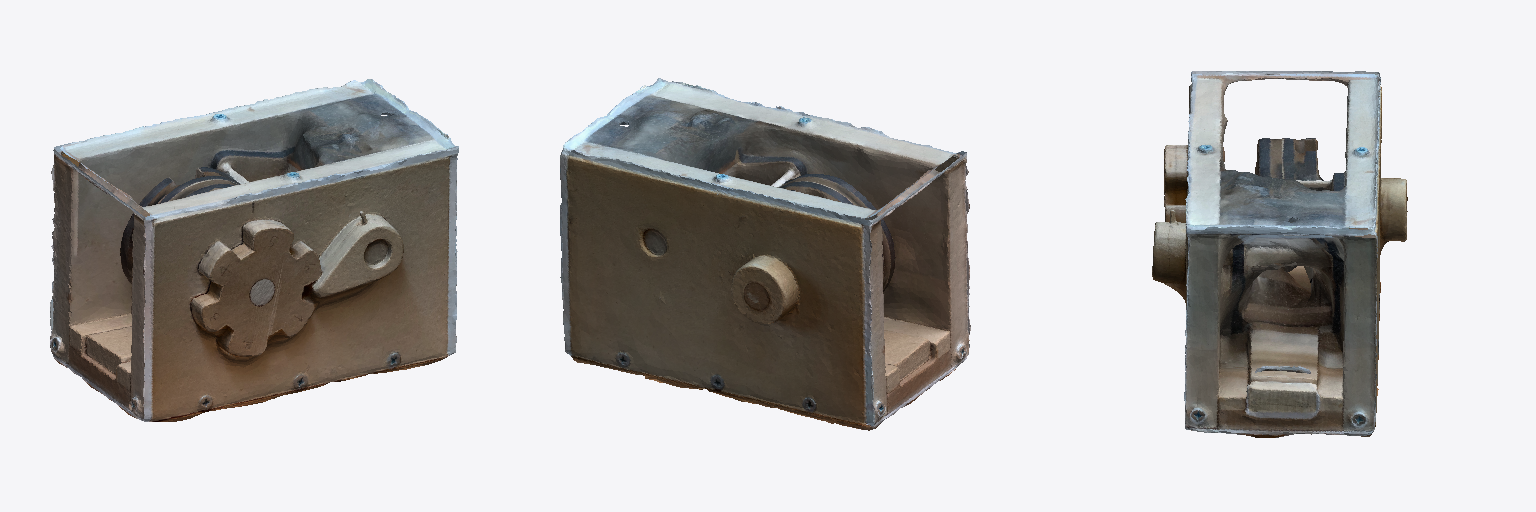
The picture shows the model from 3 angles: view 1: azimuth 30°, elevation 25°; view 2: azimuth 150°, elevation 25°; view 3: azimuth 270°, elevation 25°; orthographic projection.
Parts seen in each view (by area): view 1: mesh_0; view 2: mesh_0; view 3: mesh_0.
Boxes of the visible parts, <box> form: mesh_0: <box>50,79,458,421</box>; mesh_0: <box>560,78,970,430</box>; mesh_0: <box>1152,71,1407,437</box>.
Size of the model in its own units: 0.6747 by 0.4413 by 0.4676.
Materials: 1 (1 with a texture image).